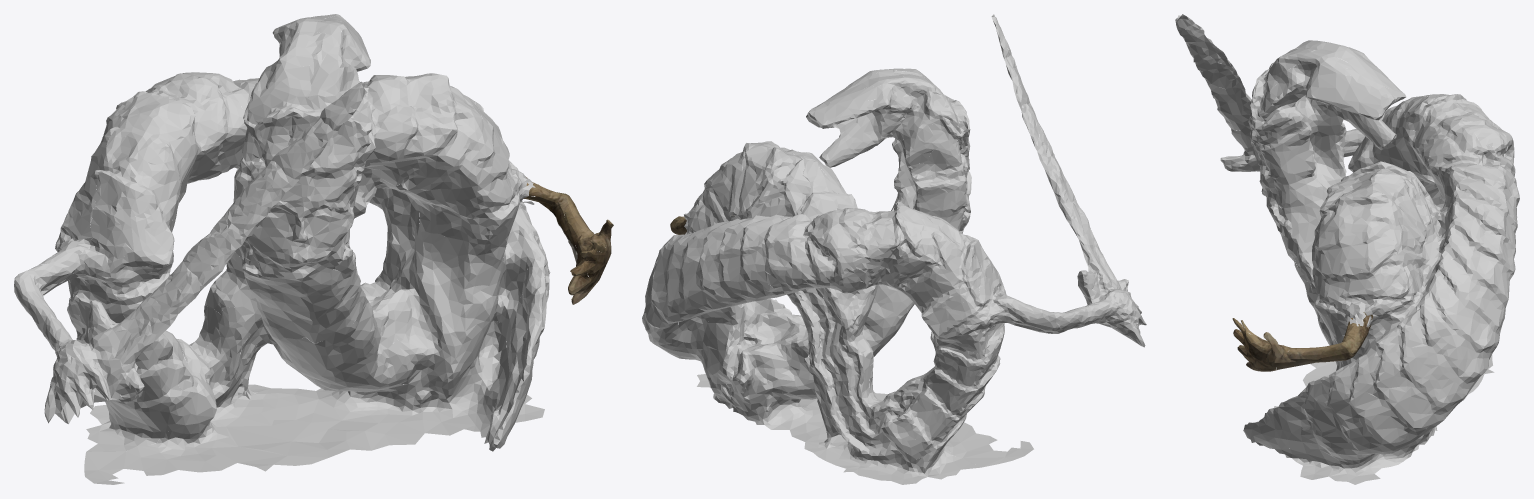
Rendered from rykard.gltf.
3 renders of one model, left to right at view 1: azimuth 30°, elevation 25°; view 2: azimuth 150°, elevation 25°; view 3: azimuth 270°, elevation 25°, orthographic. The views are drawn at different scales.
Parts seen in each view (by area): view 1: Mesh_0, Mesh_0.001; view 2: Mesh_0; view 3: Mesh_0, Mesh_0.001.
Part boxes in pixels (x1,y1,x2,y2): Mesh_0: (14,14,550,484); Mesh_0.001: (512,164,613,304); Mesh_0: (642,14,1146,484); Mesh_0: (1175,14,1519,484); Mesh_0.001: (1232,306,1373,371).
Size of what is drawn, in the model's own units: 0.176 by 0.1341 by 0.1151.
